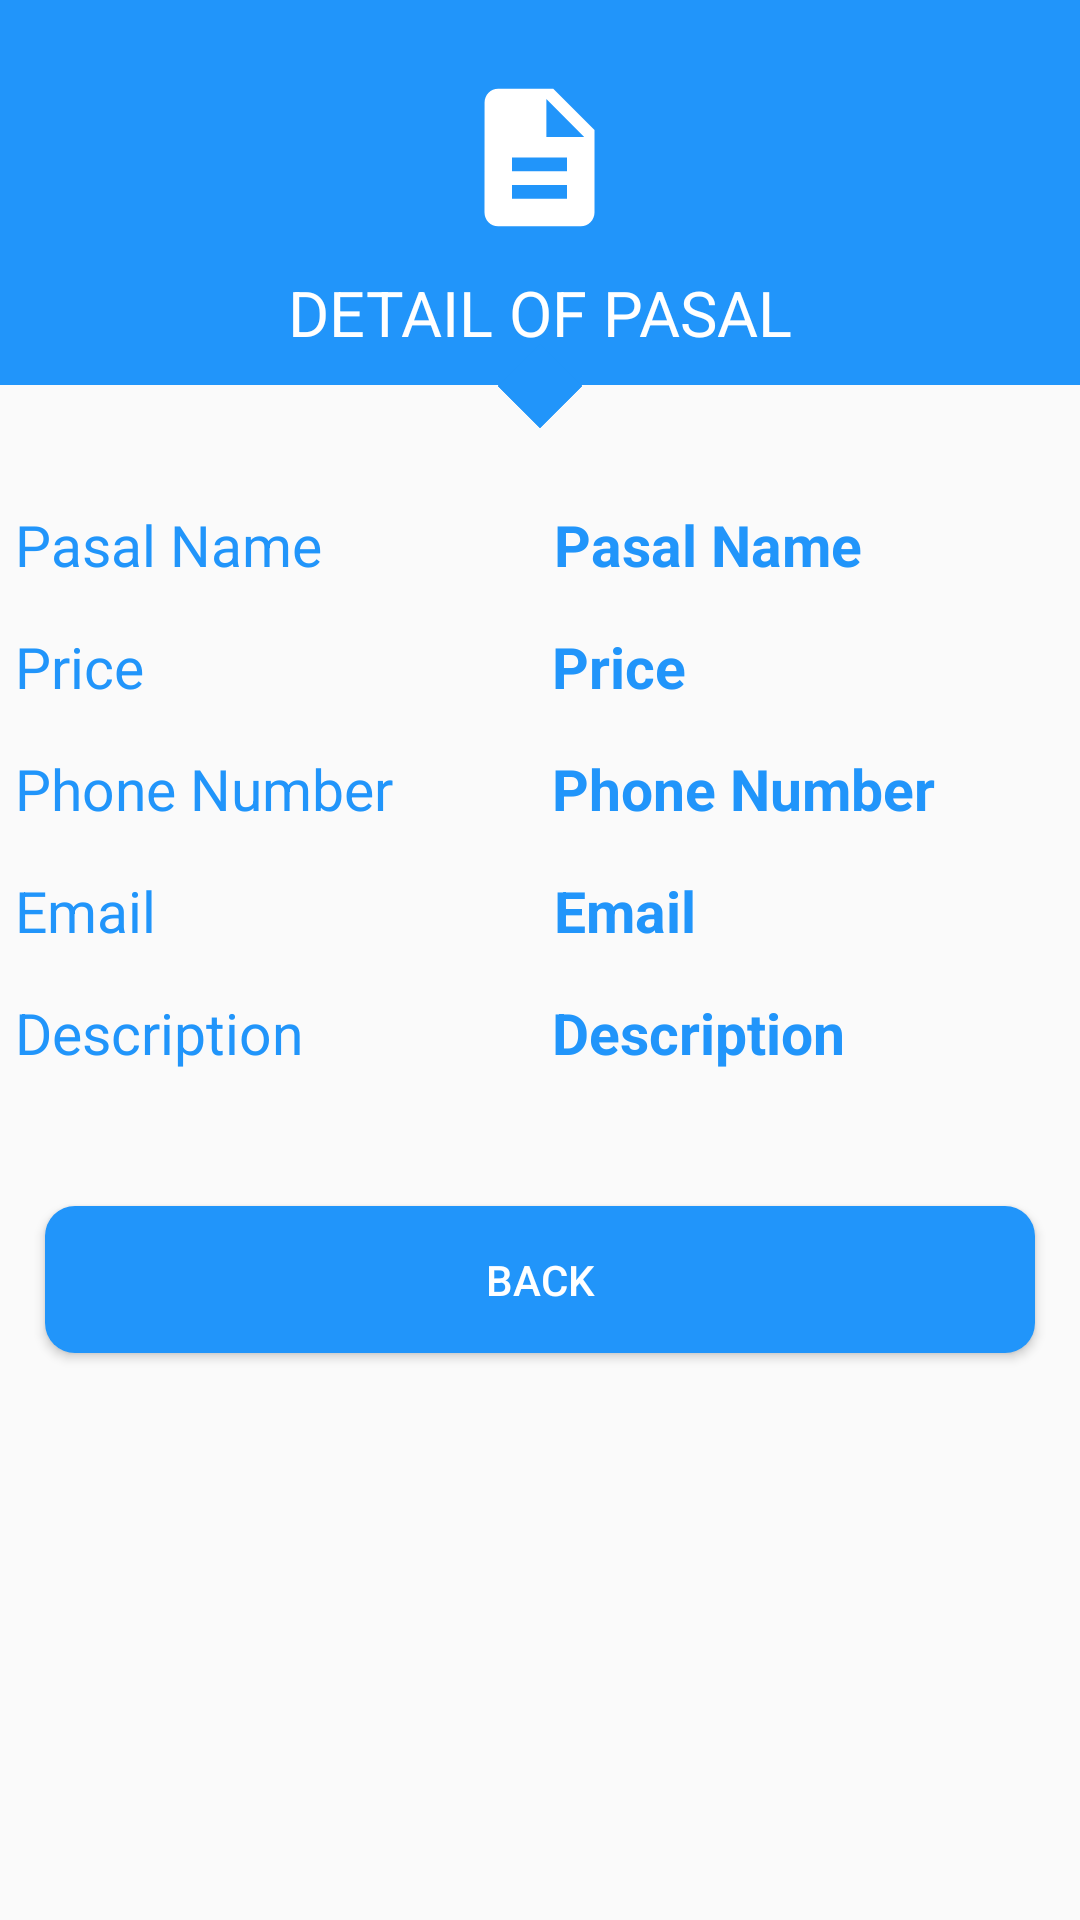

Icons on this 1080x1920 Android screen, each with its box as (x1, y1, x2, y2):
description: (484, 88, 595, 227)
